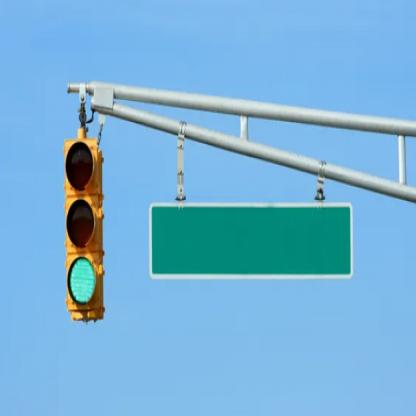green: (59, 129, 107, 328)
